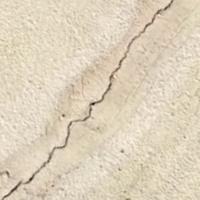crack: (0, 0, 180, 199)
